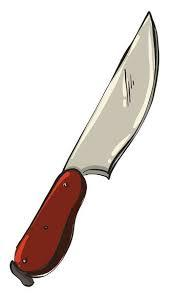Knife: (9, 10, 159, 286)
